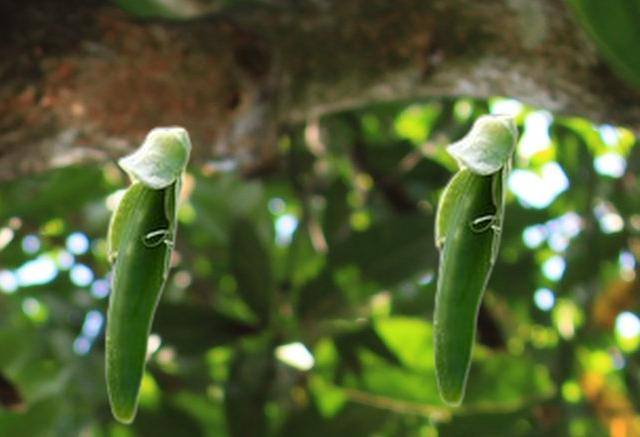pea: (103, 125, 192, 424), (431, 112, 519, 407)
